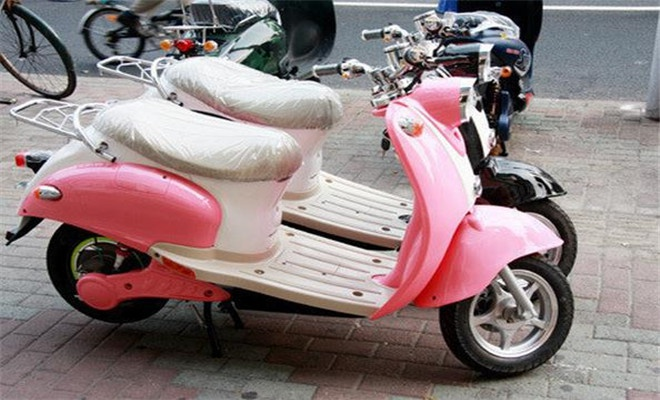non-vehicle: (10, 74, 574, 376), (131, 24, 577, 274)
